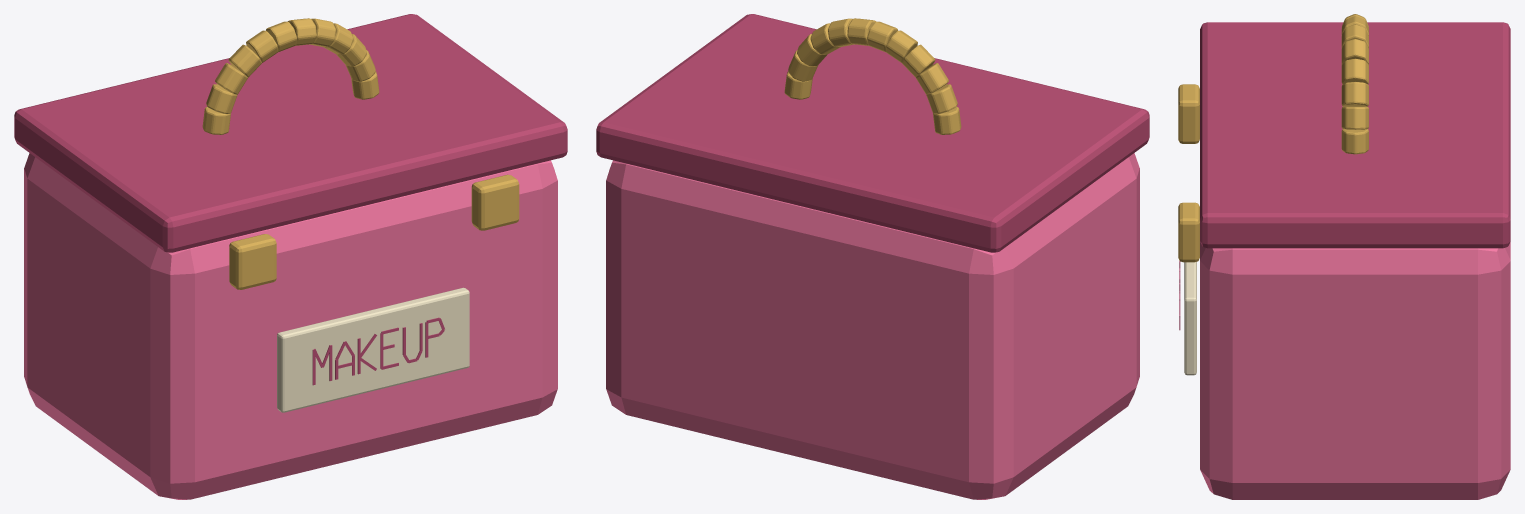
File: P087_makeup_case.glb
The picture shows the model from 3 angles, left to right: view 1: azimuth 30°, elevation 25°; view 2: azimuth 150°, elevation 25°; view 3: azimuth 270°, elevation 25°; orthographic projection.
Parts seen in each view (by area): view 1: P087_case_001, P087_lid_002, P087_label_017, P087_latch_016, P087_latch_015, P087_title_018, P087_handle_013, P087_handle_010, P087_handle_011, P087_handle_012, P087_handle_014, P087_handle_009; view 2: P087_case_001, P087_lid_002, P087_handle_013, P087_handle_010, P087_handle_011, P087_handle_012, P087_handle_014, P087_handle_009; view 3: P087_case_001, P087_lid_002, P087_label_017, P087_latch_016, P087_latch_015, P087_handle_003, P087_handle_005, P087_handle_004, P087_handle_006, P087_handle_007, P087_handle_008.
Part boxes in pixels (x1,y1,x2,y2): P087_case_001: (24,153,557,499); P087_lid_002: (14,14,567,252); P087_label_017: (277,287,469,412); P087_latch_016: (471,174,519,230); P087_latch_015: (229,234,276,289); P087_title_018: (312,317,444,385); P087_handle_013: (206,84,237,113); P087_handle_010: (246,30,278,62); P087_handle_011: (228,44,261,77); P087_handle_012: (215,63,247,94); P087_handle_014: (202,106,230,134); P087_handle_009: (266,21,296,51); P087_case_001: (606,153,1139,499); P087_lid_002: (596,14,1149,252); P087_handle_013: (926,84,957,113); P087_handle_010: (885,30,917,62); P087_handle_011: (902,44,935,77); P087_handle_012: (916,63,948,94); P087_handle_014: (933,106,961,134); P087_handle_009: (867,21,897,51); P087_case_001: (1200,242,1510,499); P087_lid_002: (1200,22,1510,248); P087_label_017: (1184,262,1196,375); P087_latch_016: (1178,202,1199,262); P087_latch_015: (1178,84,1199,143); P087_handle_003: (1341,129,1368,154); P087_handle_005: (1341,82,1368,106); P087_handle_004: (1341,106,1368,129); P087_handle_006: (1341,58,1368,84); P087_handle_007: (1341,39,1368,63); P087_handle_008: (1341,24,1368,47).
Bounding box in the file's own units: 0.3 × 0.2776 × 0.214.
